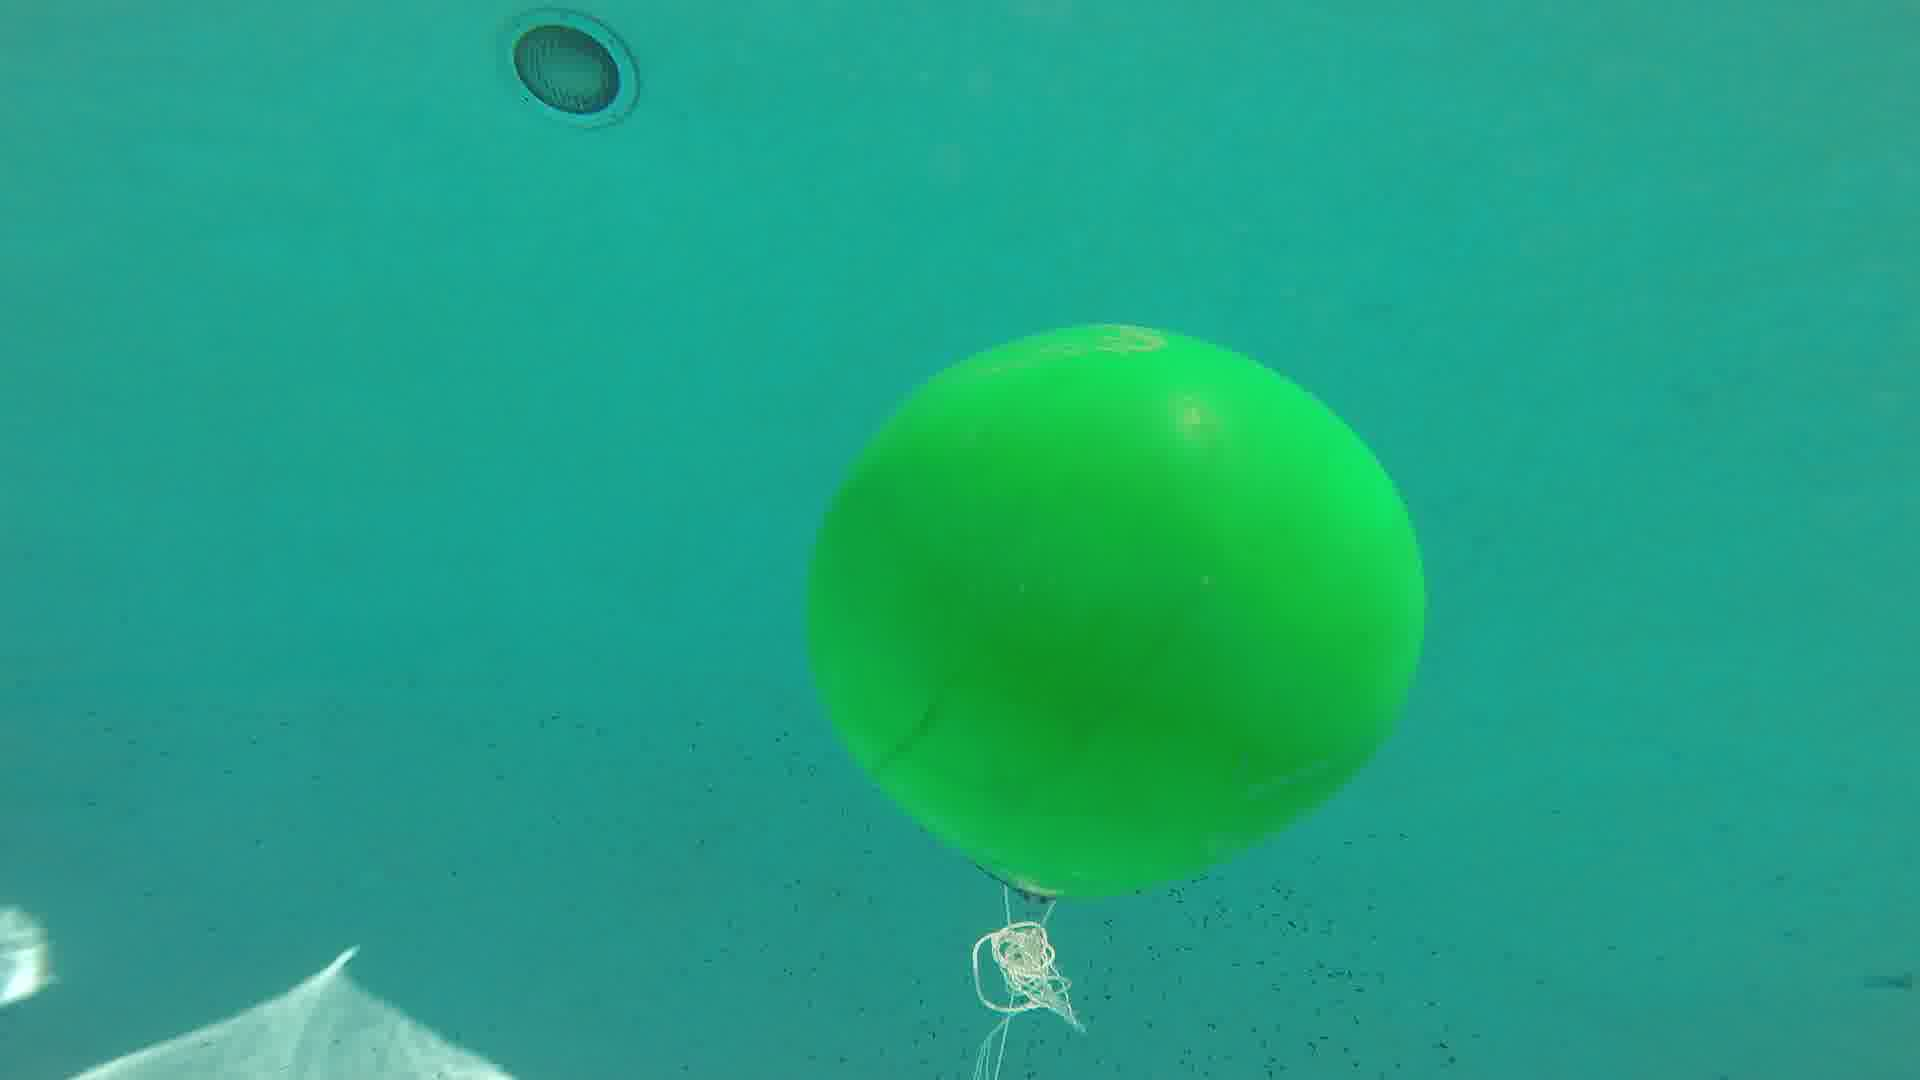yellow_buoy: (808, 330, 1429, 898)
